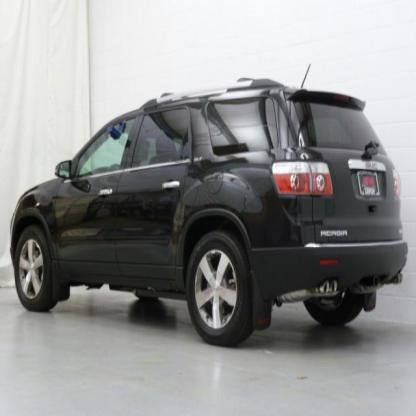Vehicle: (8, 76, 410, 348)
